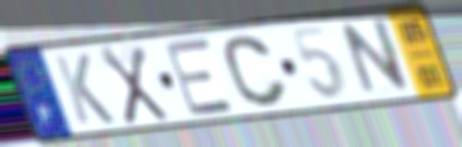5: (287, 25, 350, 103)
C: (220, 33, 292, 110)
E: (161, 35, 239, 119)
K: (50, 51, 118, 127)
N: (337, 16, 414, 100)
X: (95, 44, 172, 128)
